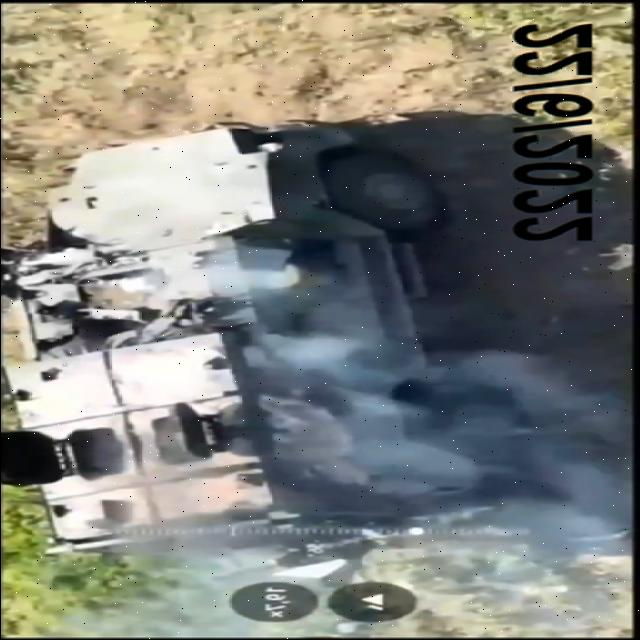CAR: (2, 123, 504, 556)
